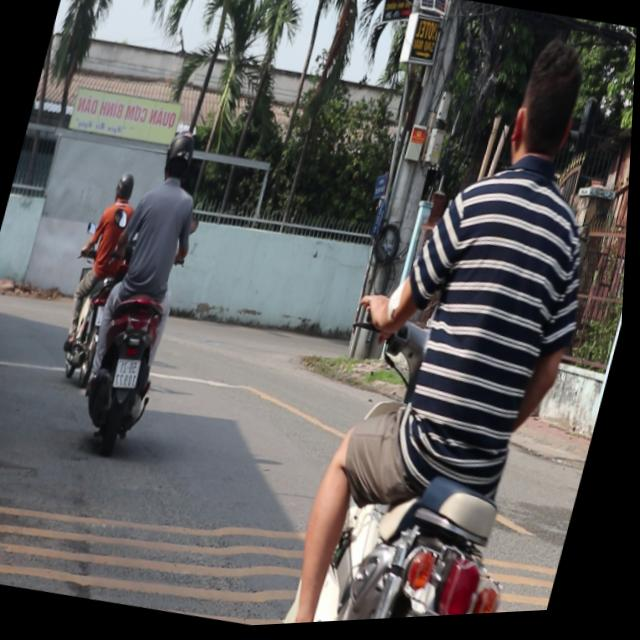helmet: (160, 127, 204, 190)
licenseplate: (71, 121, 226, 462), (55, 164, 150, 388)
motorcyclist: (502, 39, 599, 189)
nohelmet: (117, 356, 146, 390)
